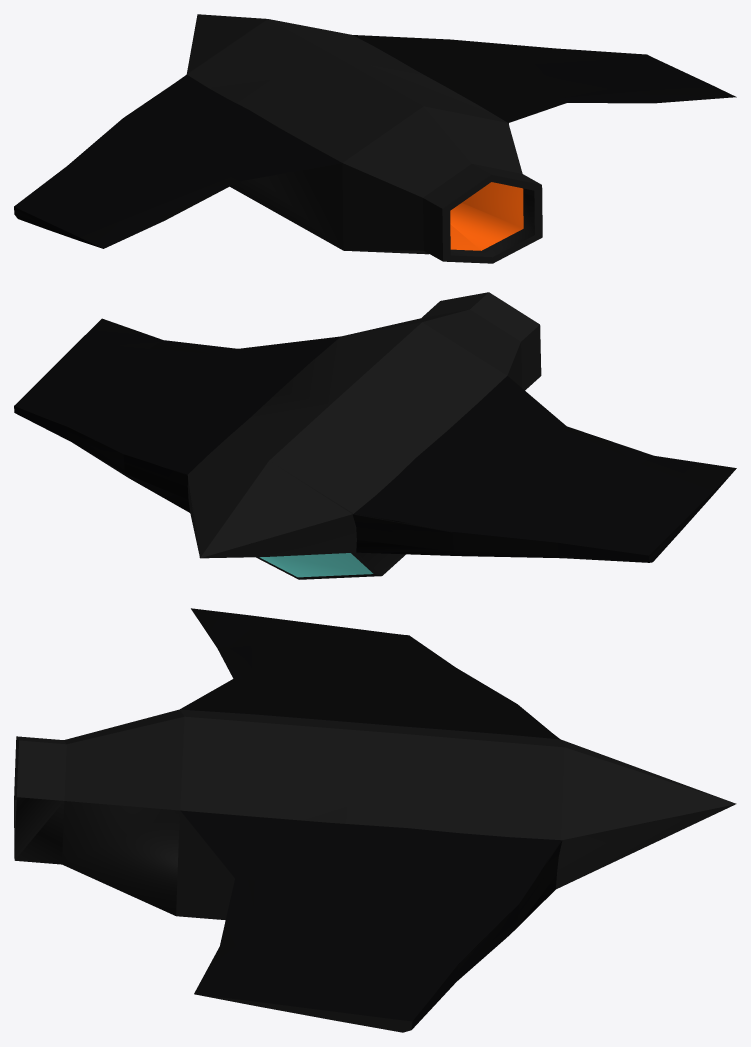
File: ship2.obj
3 renders of one model, top to bottom at view 1: azimuth 30°, elevation 25°; view 2: azimuth 150°, elevation 25°; view 3: azimuth 270°, elevation 25°, orthographic. The views are drawn at different scales.
Parts seen in each view (by area): view 1: Cube_Cube.002; view 2: Cube_Cube.002; view 3: Cube_Cube.002.
Part boxes in pixels (x1,y1,x2,y2): Cube_Cube.002: (14, 14, 736, 263); Cube_Cube.002: (14, 292, 736, 579); Cube_Cube.002: (14, 608, 736, 1032).
Size of the model in its own units: 2.26 by 0.565 by 1.81.
